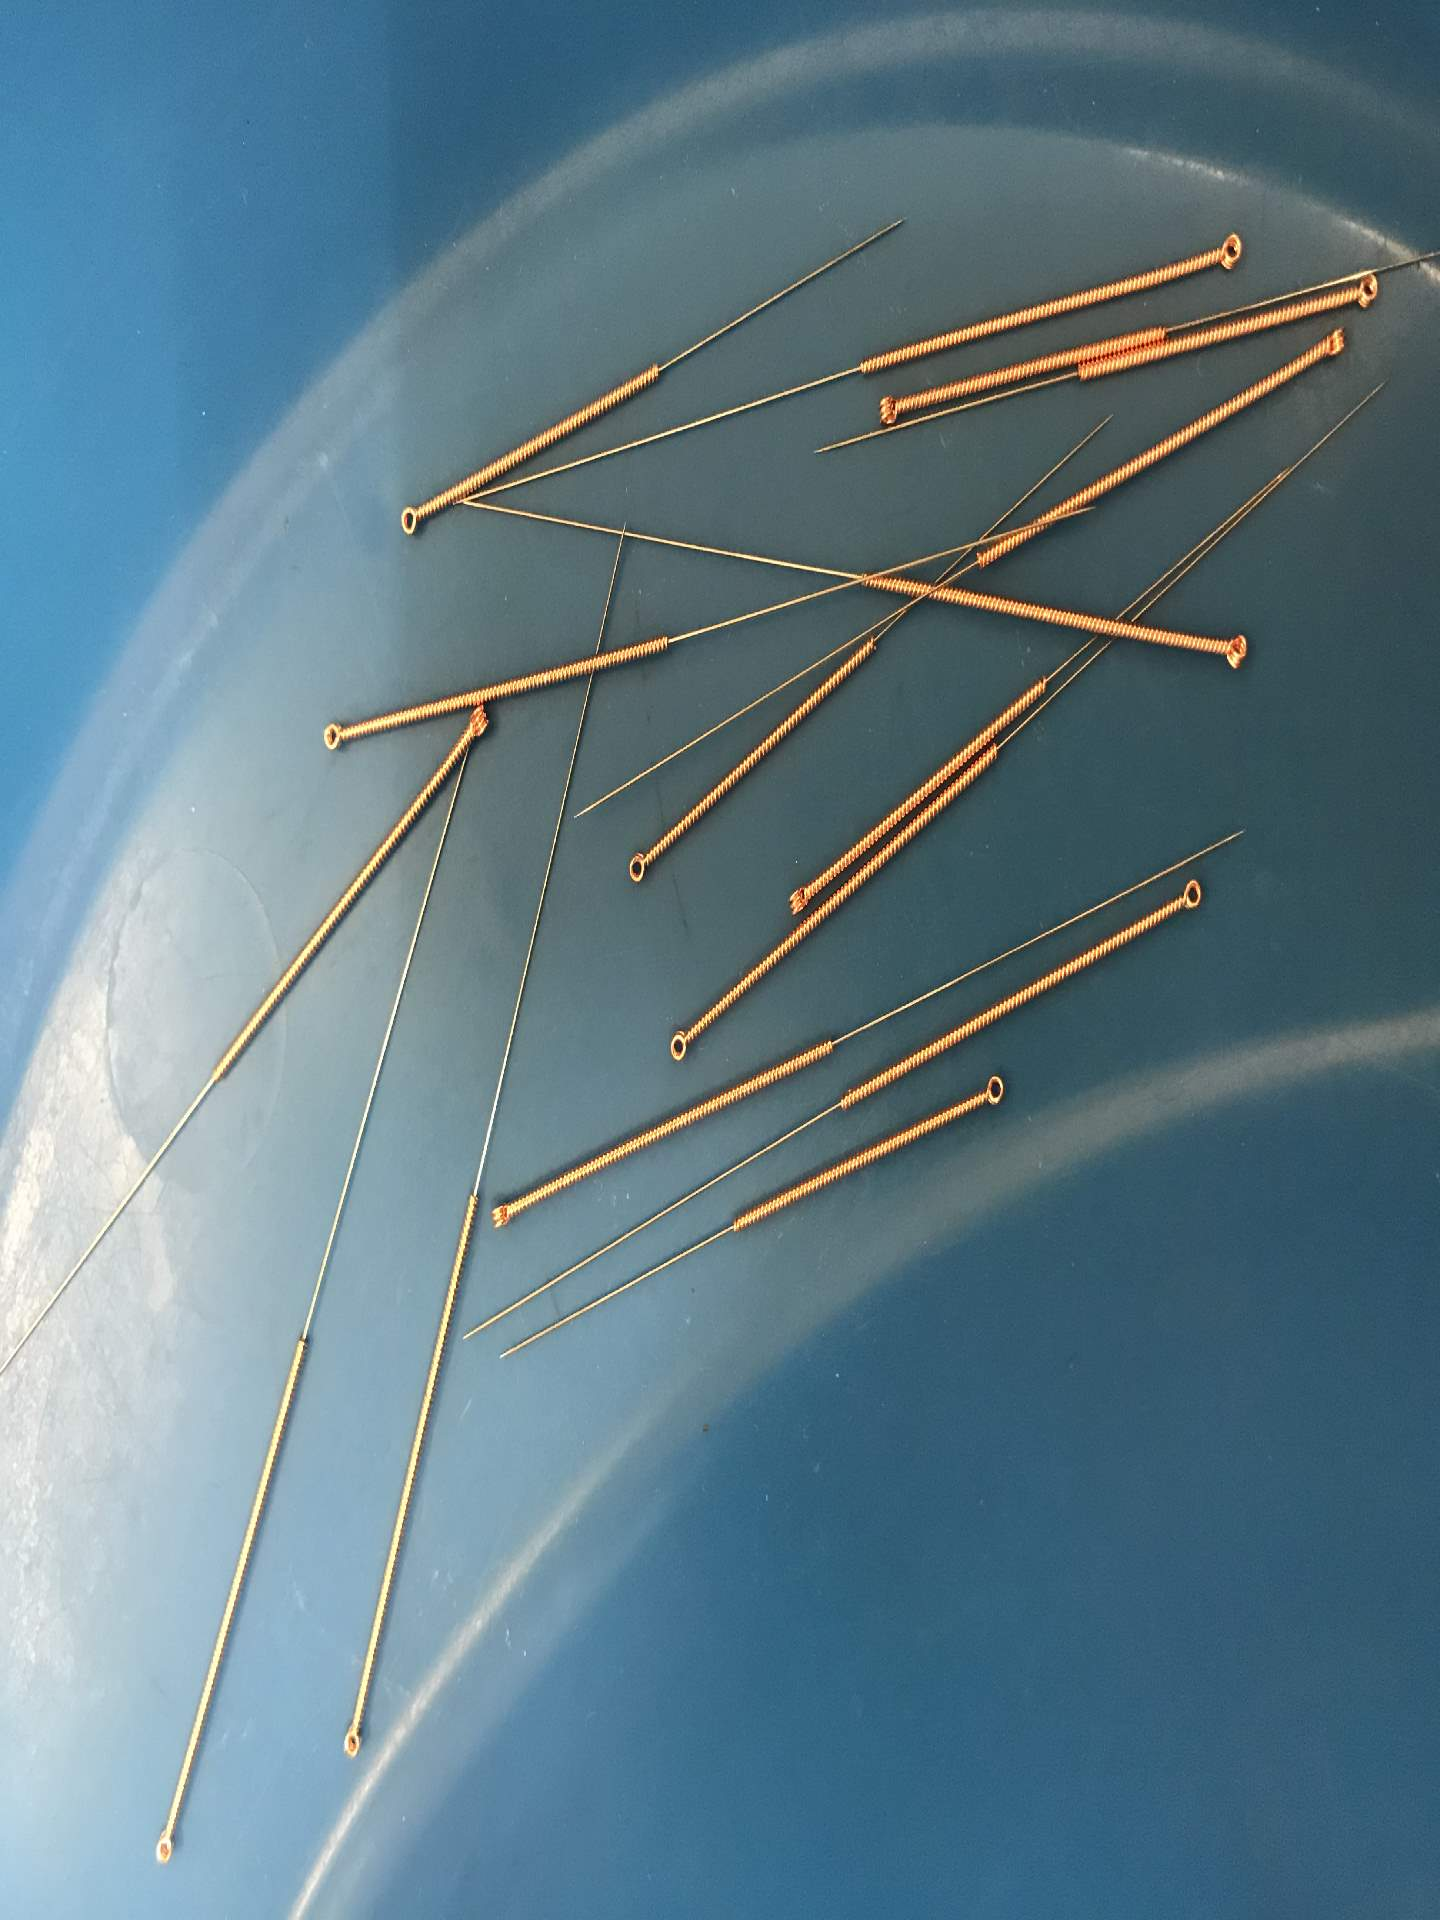needle: (139, 1813, 192, 1875), (614, 836, 669, 893), (862, 382, 917, 437), (1207, 621, 1255, 677), (386, 491, 436, 544), (1201, 222, 1249, 277), (1165, 869, 1215, 921), (1339, 265, 1390, 314), (967, 1067, 1015, 1119), (656, 1017, 703, 1070), (454, 700, 502, 748), (312, 709, 355, 762), (331, 1713, 374, 1767), (777, 871, 823, 921), (479, 1191, 523, 1240), (1313, 321, 1351, 370)
